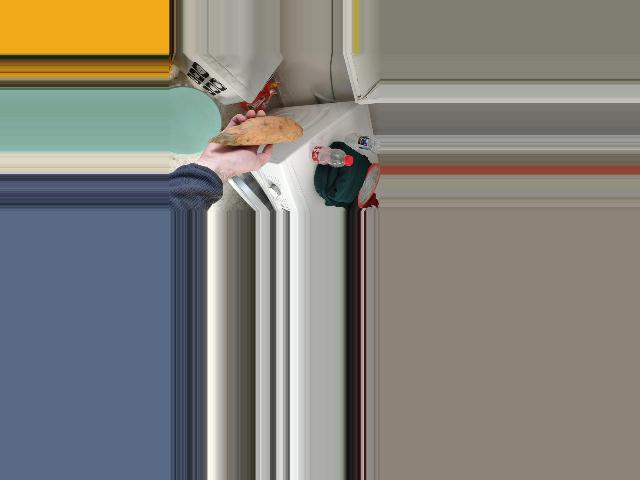sweet_potato: (214, 115, 293, 146)
